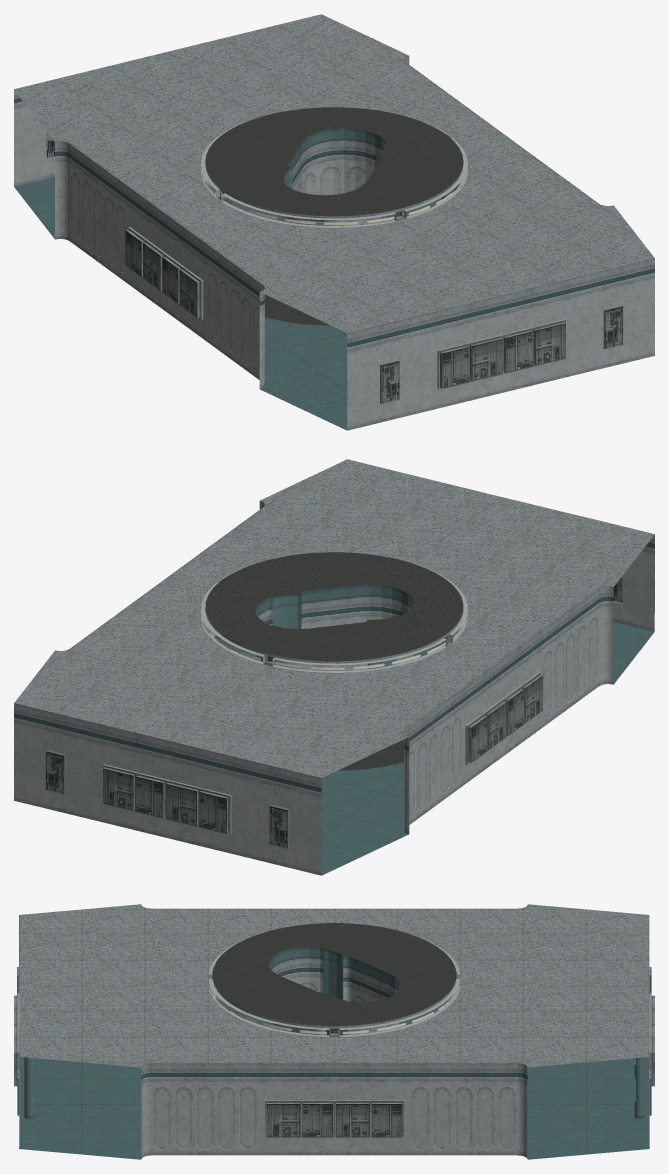
File: mun_all_hospital_s01_r8_mesh.fbx
The picture shows the model from 3 angles, top to bottom: view 1: azimuth 30°, elevation 25°; view 2: azimuth 150°, elevation 25°; view 3: azimuth 270°, elevation 25°; orthographic projection. The views are drawn at different scales.
Parts seen in each view (by area): view 1: mesh_node; view 2: mesh_node; view 3: mesh_node.
Part boxes in pixels (x1,y1,x2,y2): mesh_node: [14, 14, 654, 430]; mesh_node: [14, 459, 654, 875]; mesh_node: [14, 904, 654, 1159].
Bounding box in the file's own units: 19 × 5.61 × 31.51.
